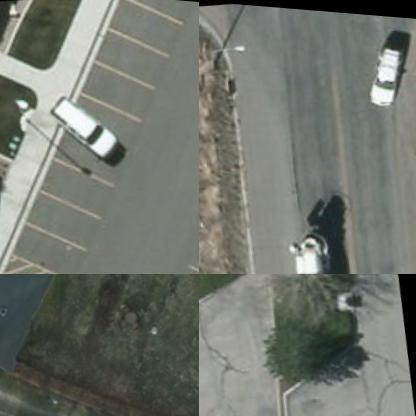car: (45, 84, 124, 172), (358, 33, 415, 115)
other: (286, 222, 360, 273)
